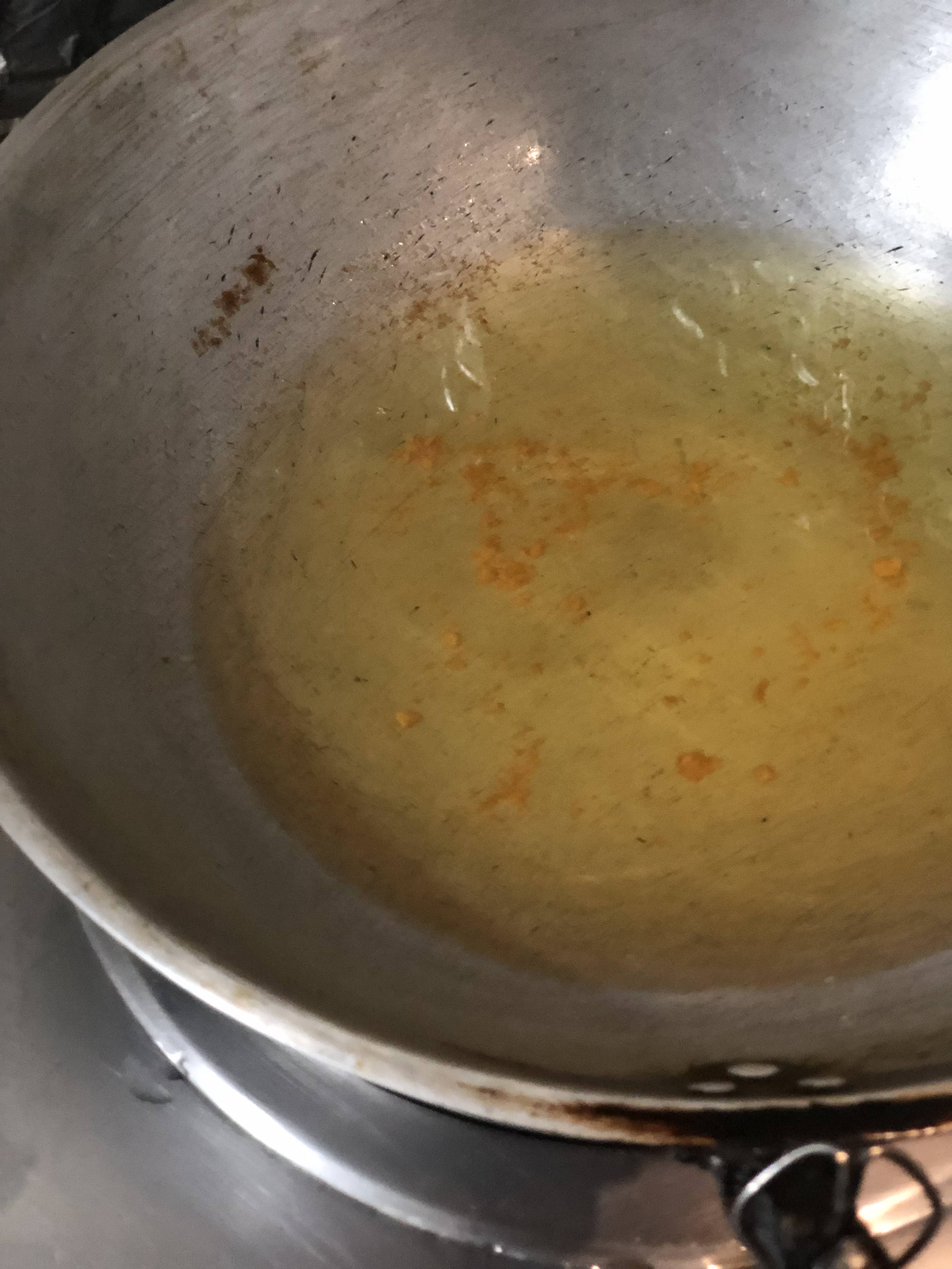reusable: (198, 233, 952, 988)
